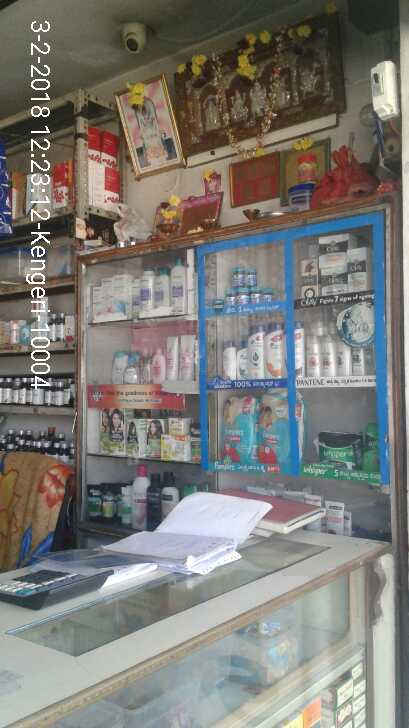beauty: (327, 333, 365, 383), (318, 223, 348, 277), (266, 319, 287, 380), (247, 315, 266, 380), (347, 242, 367, 295), (314, 328, 333, 379), (303, 332, 321, 385), (215, 337, 235, 381)
pharmacy: (256, 378, 294, 467), (217, 388, 258, 465), (215, 262, 278, 306), (311, 428, 362, 466)
